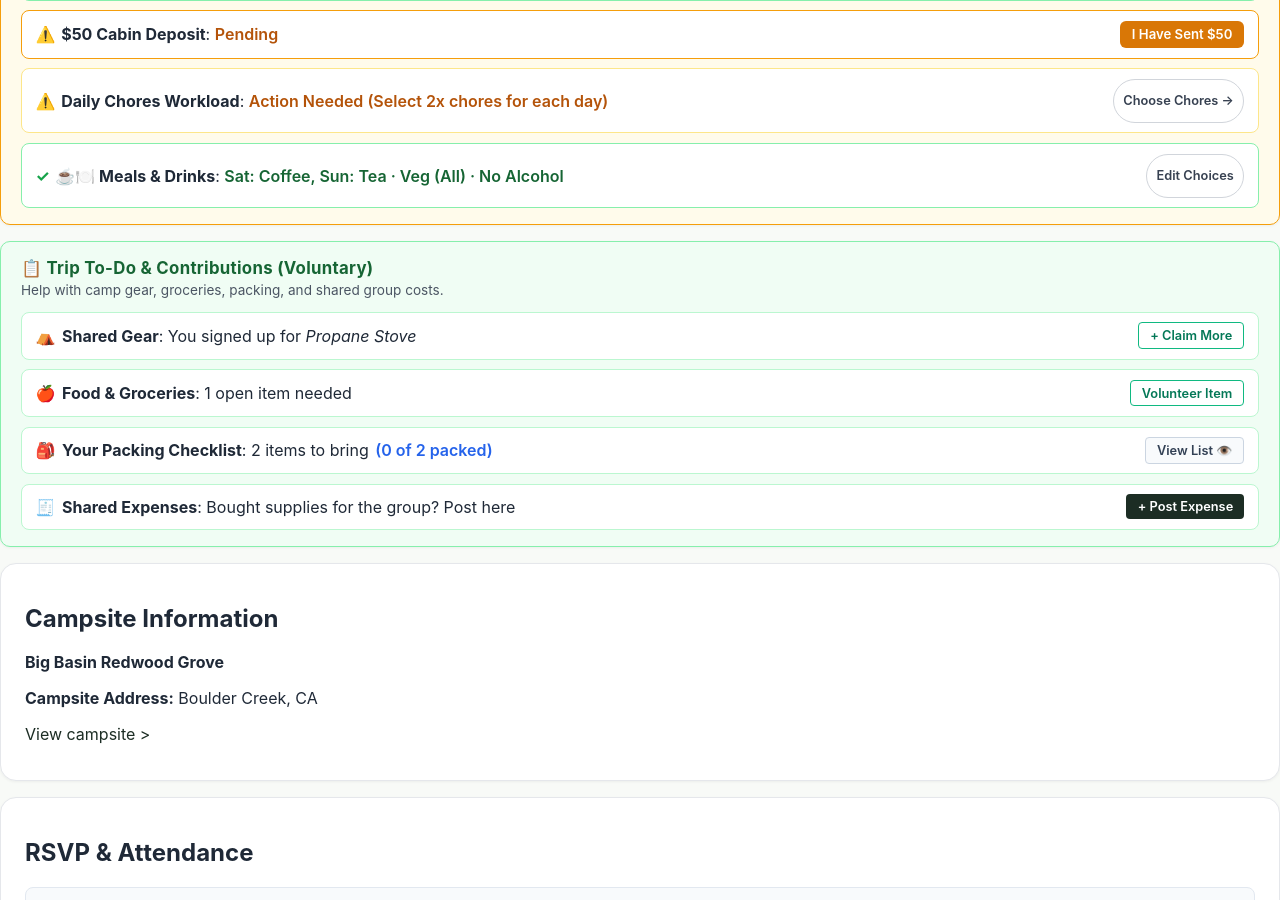
Task 5: Frontend 'My Trip Hub' Dashboard Refactor › opens personal packing checklist modal when clicking 'View List'
(page scrolled)
Click the button "View List 👁️" at (1195, 450), box [1145, 437, 1244, 464]
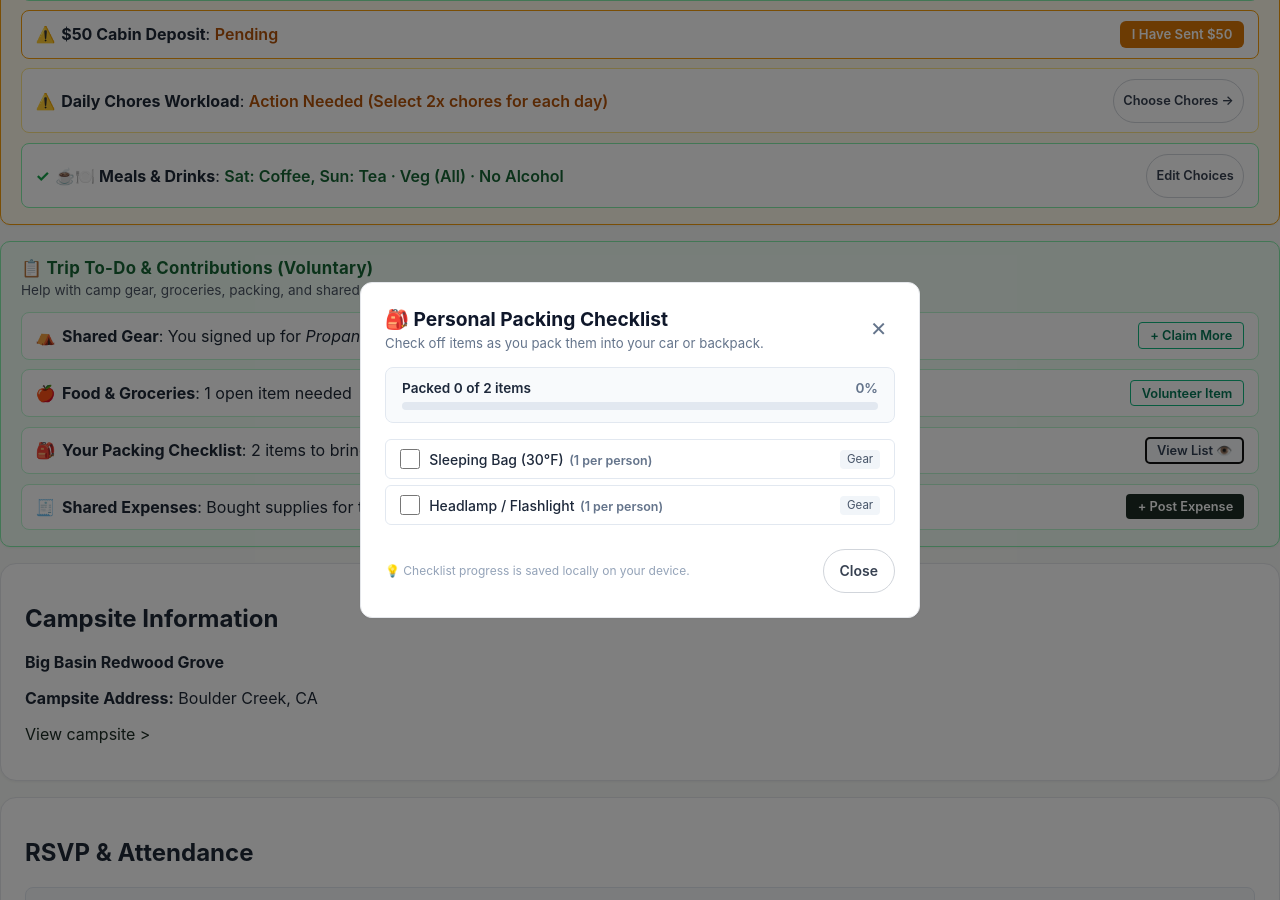
Now the dialog is shown
Now the text "Sleeping Bag (30°F)" is shown, box [429, 451, 564, 468]
Now the text "Headlamp / Flashlight" is shown, box [429, 497, 574, 514]
Close modal
Click the button "Close" at (859, 571), box [822, 549, 895, 593]
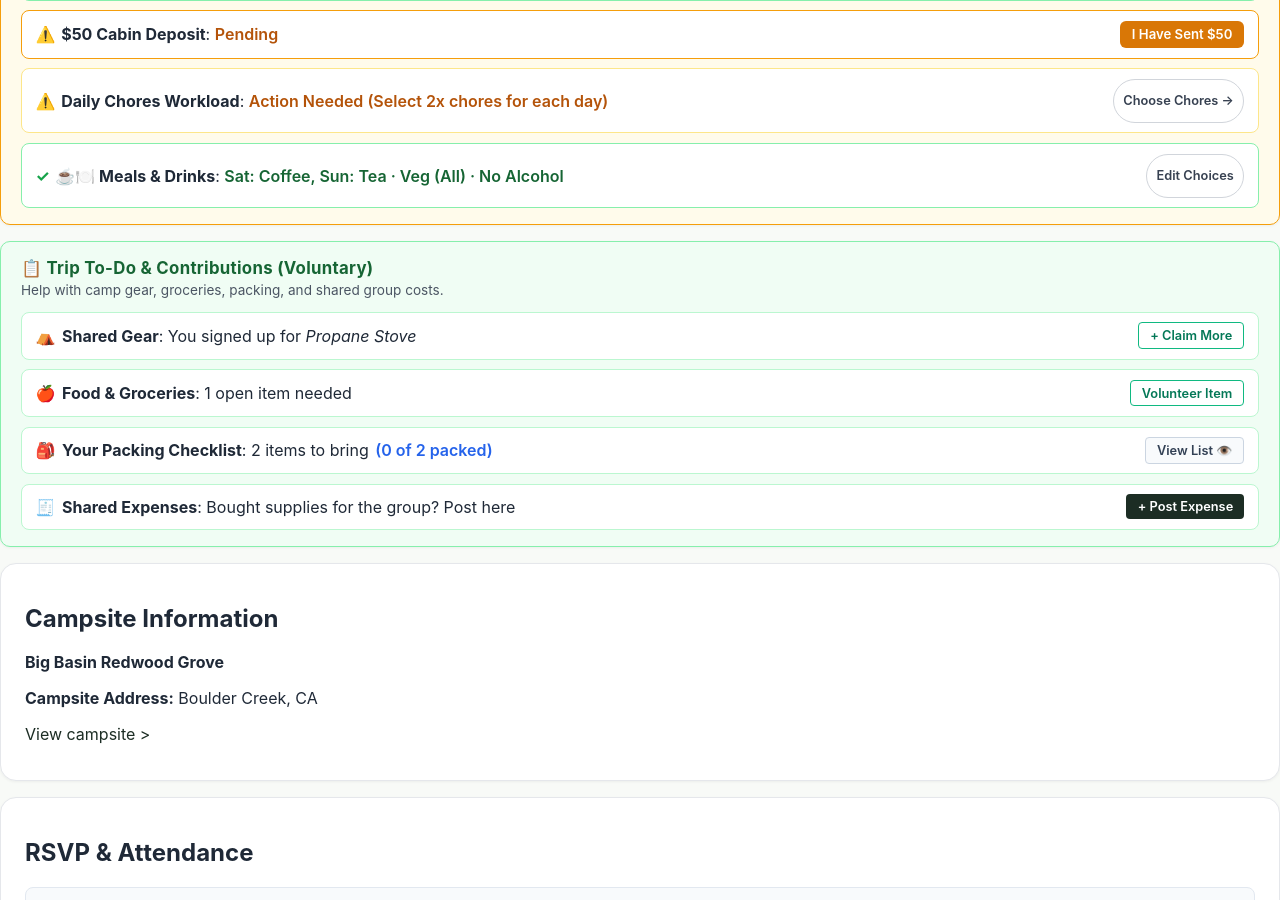
Now the dialog is gone
